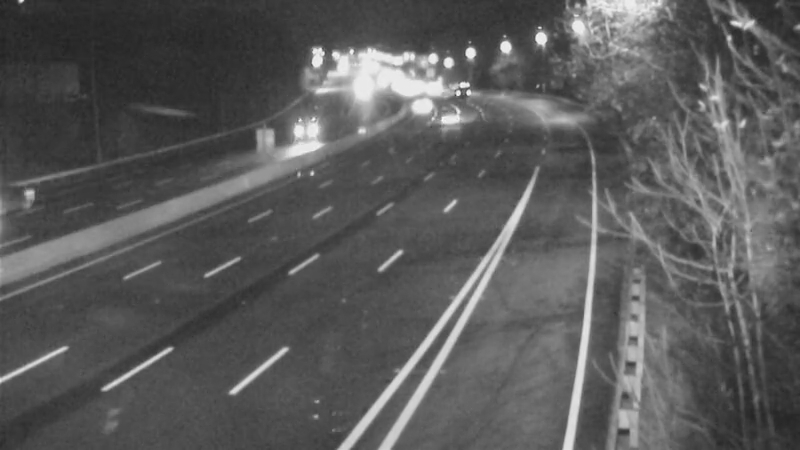vehicle: (432, 61, 482, 111), (397, 79, 447, 129), (427, 87, 477, 137), (280, 102, 330, 152)
